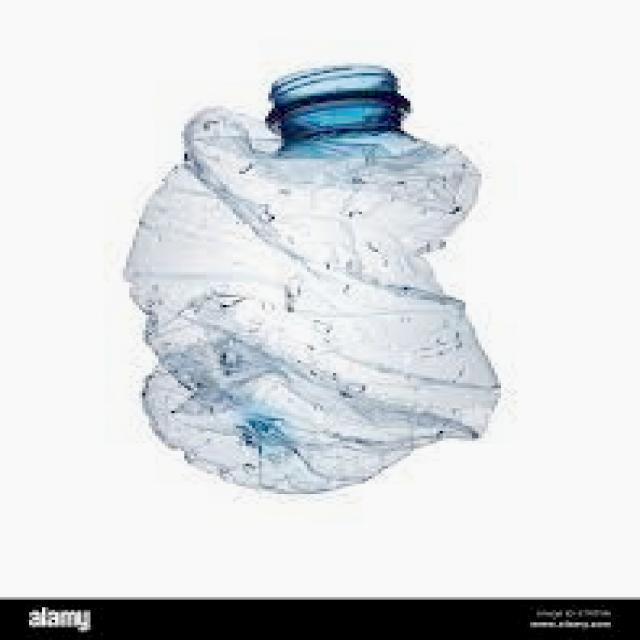BIODEGRADABLE: (110, 49, 513, 493)
